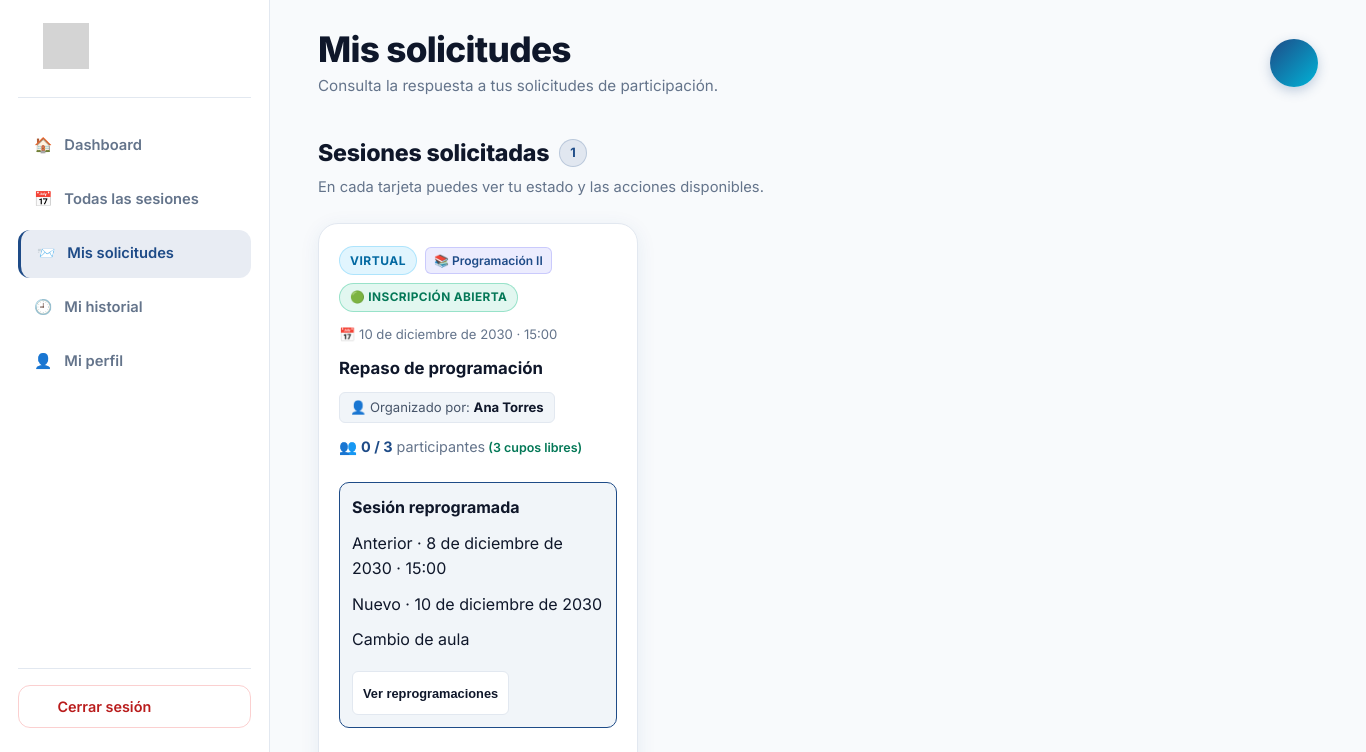
Test: se puede volver a confirmar después de un error y salir de la sesión confirmada
This screenshot has width=1366, height=752.
Click the button "Ver reprogramaciones": (431, 693) [352, 671, 509, 715]
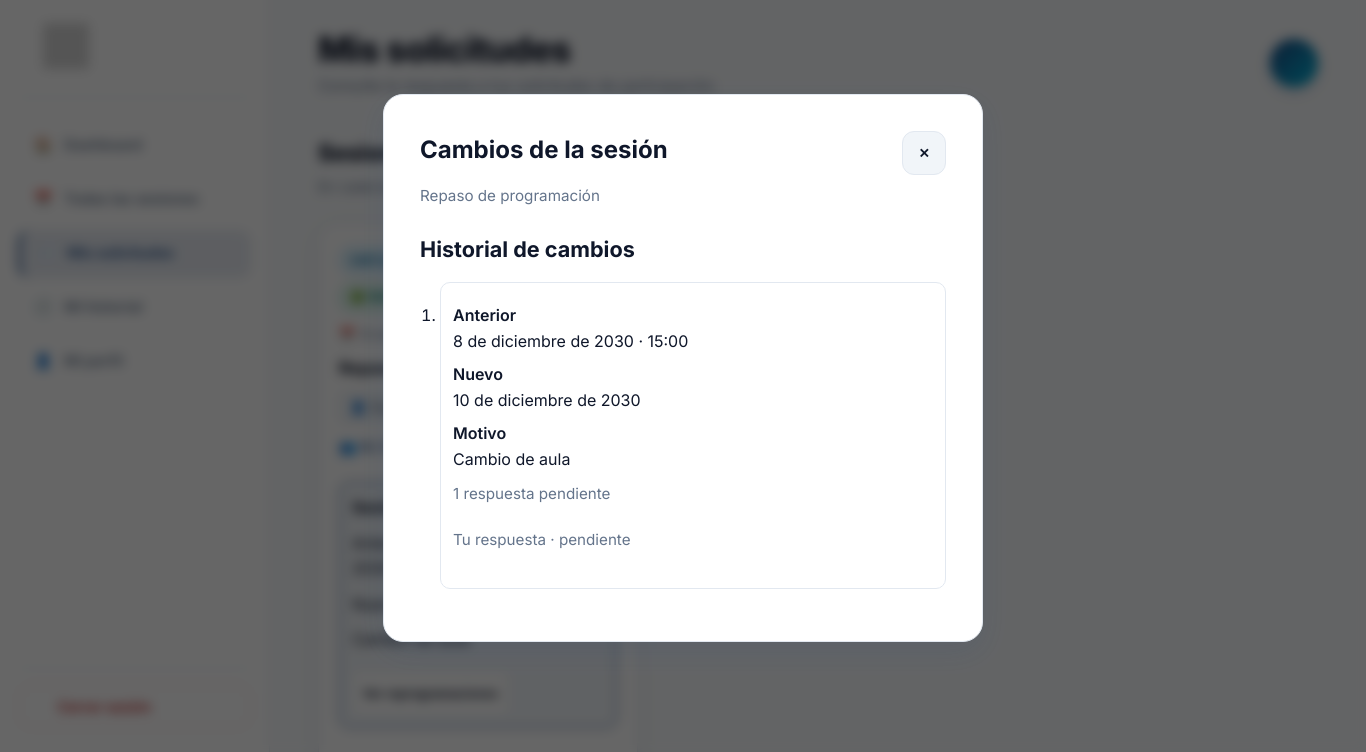
Click the button named "Cerrar reprogramación": (924, 153) [902, 131, 946, 175]
(page scrolled)
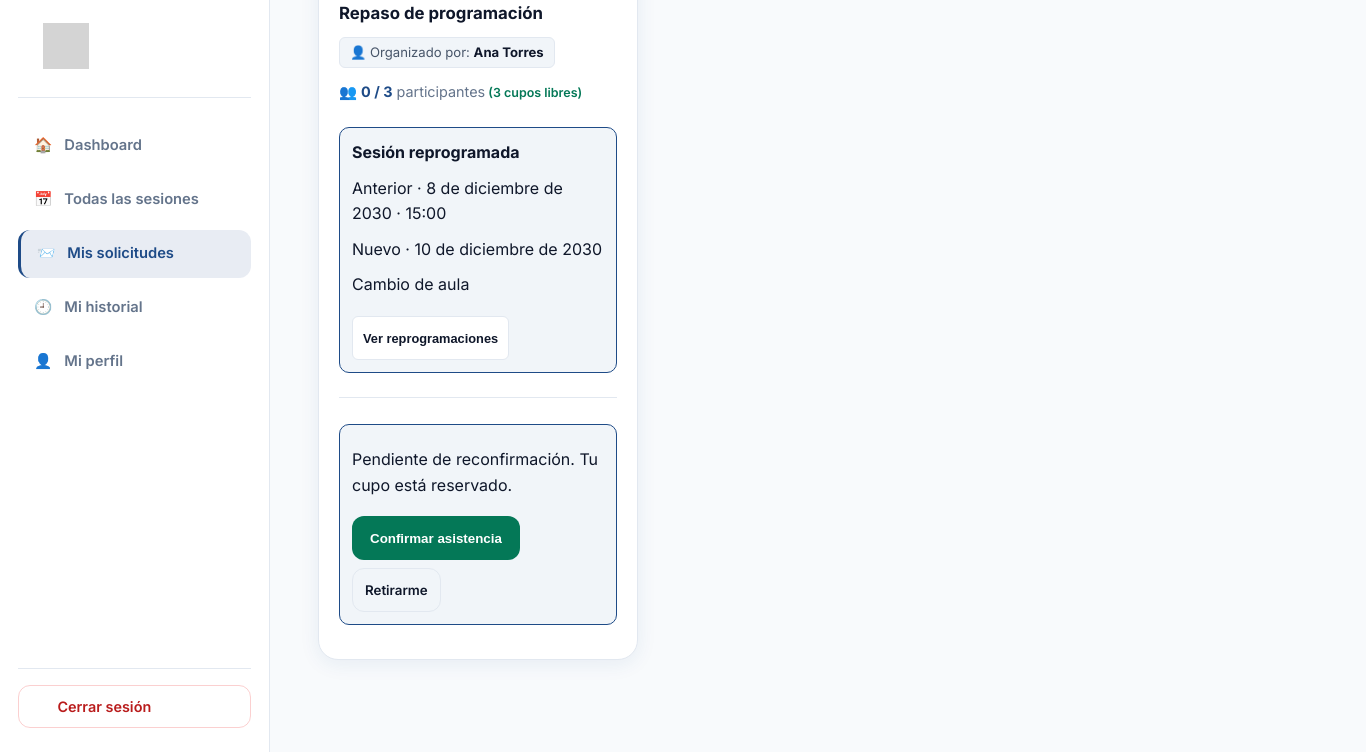
Click the button "Confirmar asistencia": (436, 538) [352, 516, 520, 560]
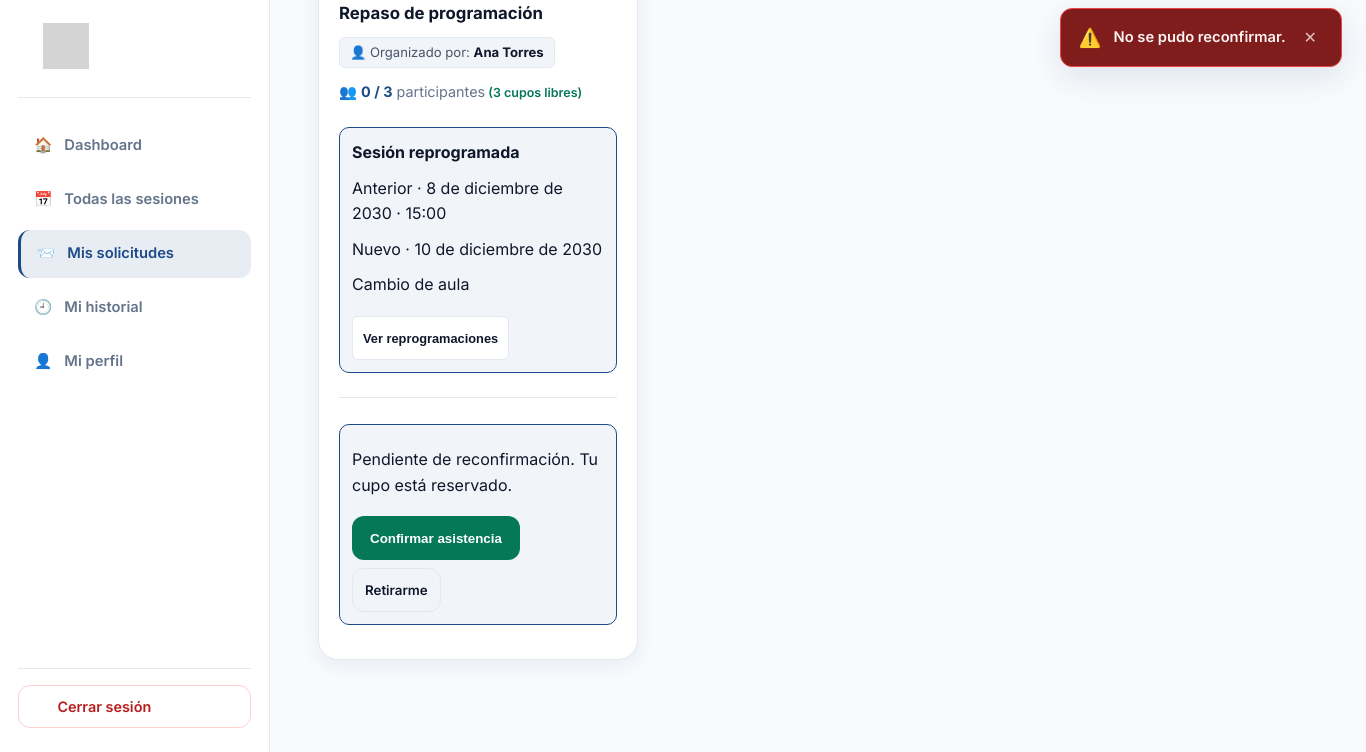
Now the text "No se pudo reconfirmar." is shown, box [1114, 27, 1286, 48]
Click the button "Confirmar asistencia": (436, 538) [352, 516, 520, 560]
(page scrolled)
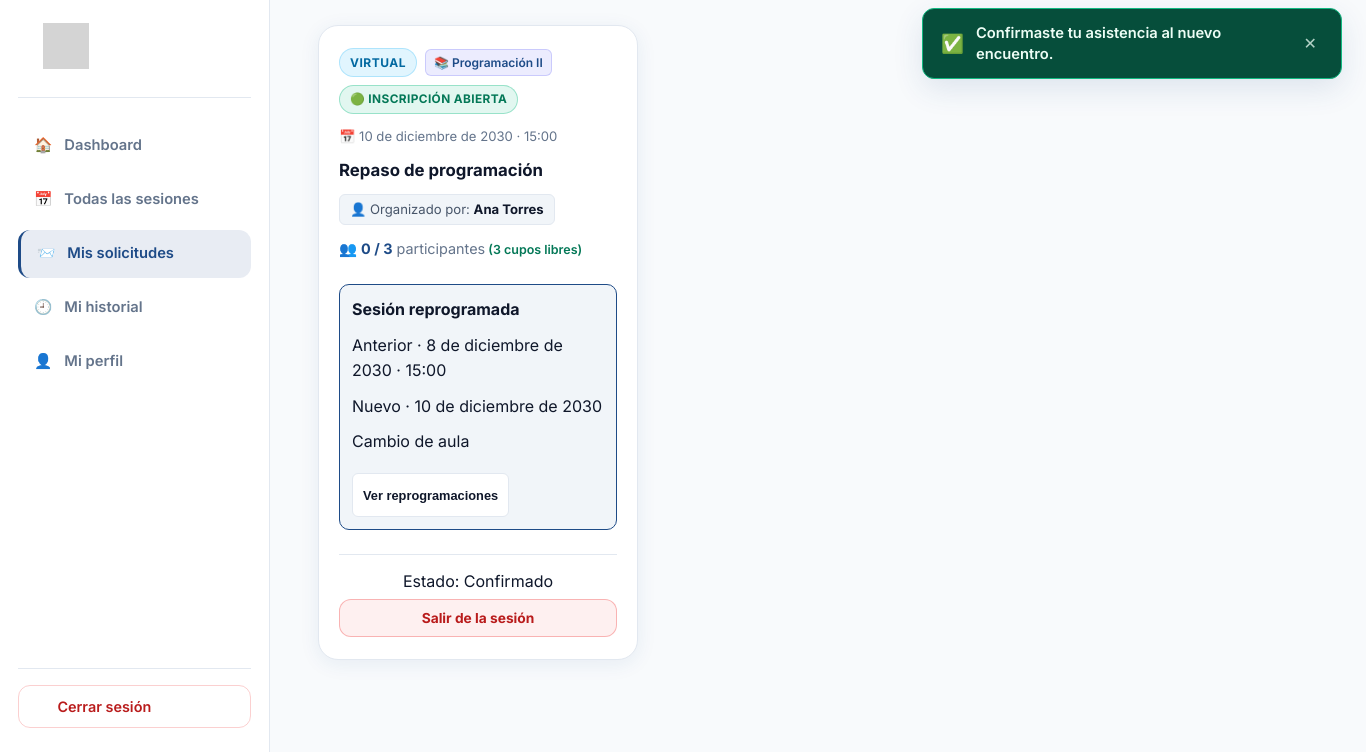
Now the text "Estado: Confirmado" is shown, box [403, 569, 553, 595]
Click the button "Salir de la sesión": (478, 618) [339, 599, 617, 637]
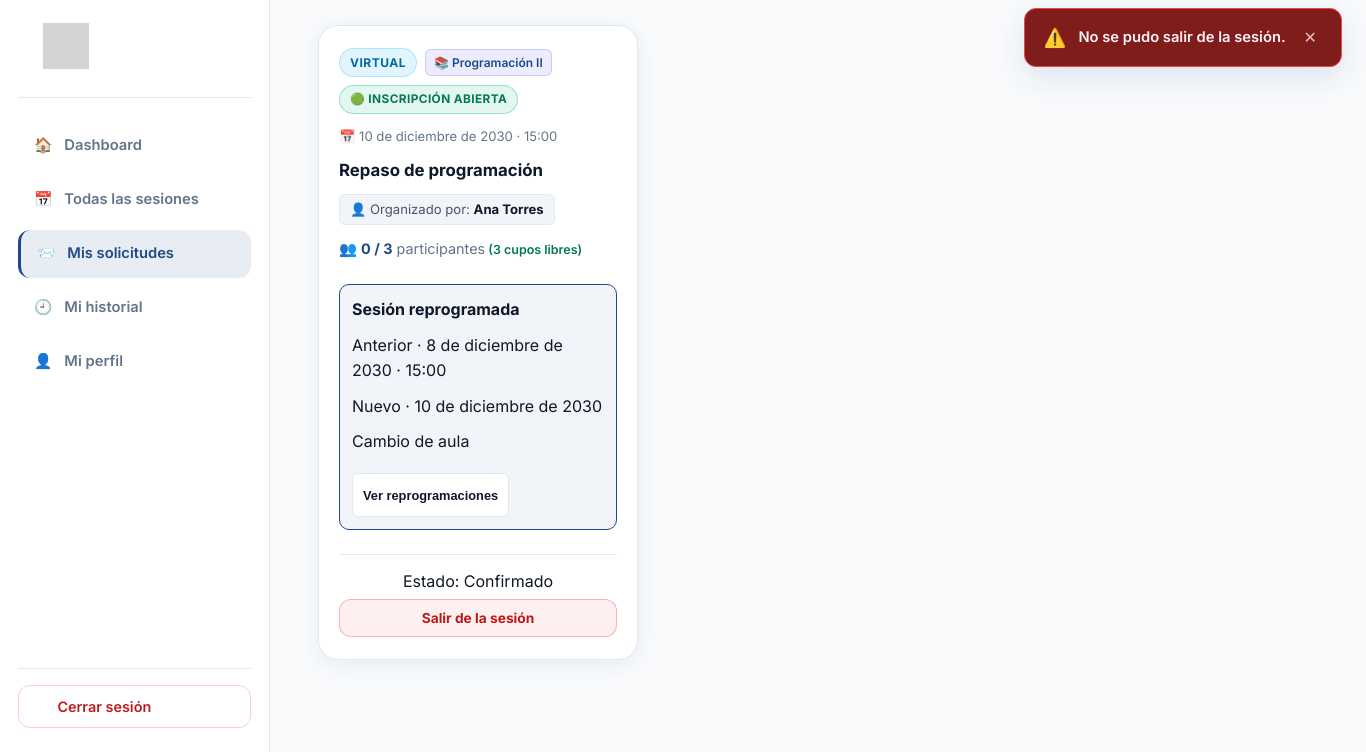
Now the text "No se pudo salir de la sesión." is shown, box [1078, 27, 1286, 48]
Click the button "Salir de la sesión": (478, 618) [339, 599, 617, 637]
(page scrolled)
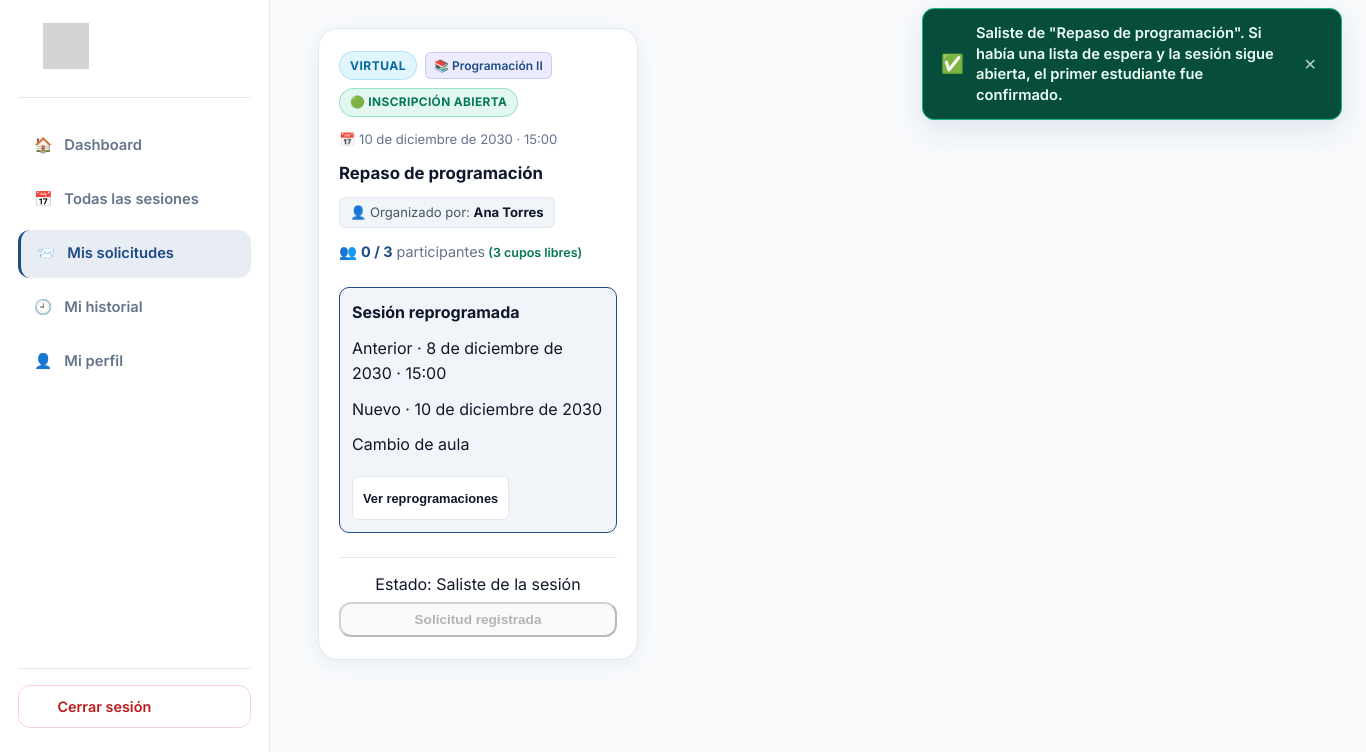
Now the text "Estado: Saliste de la sesión" is shown, box [375, 572, 581, 598]
